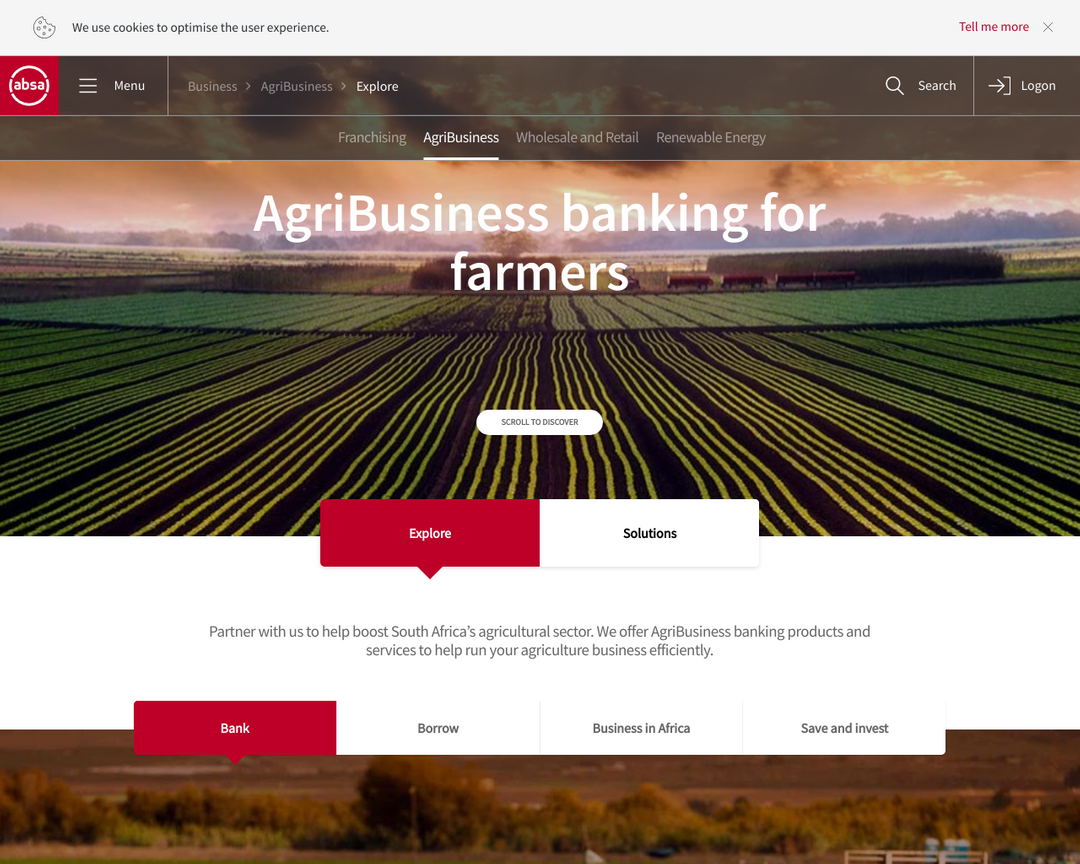ABSA: (9, 64, 51, 108)
